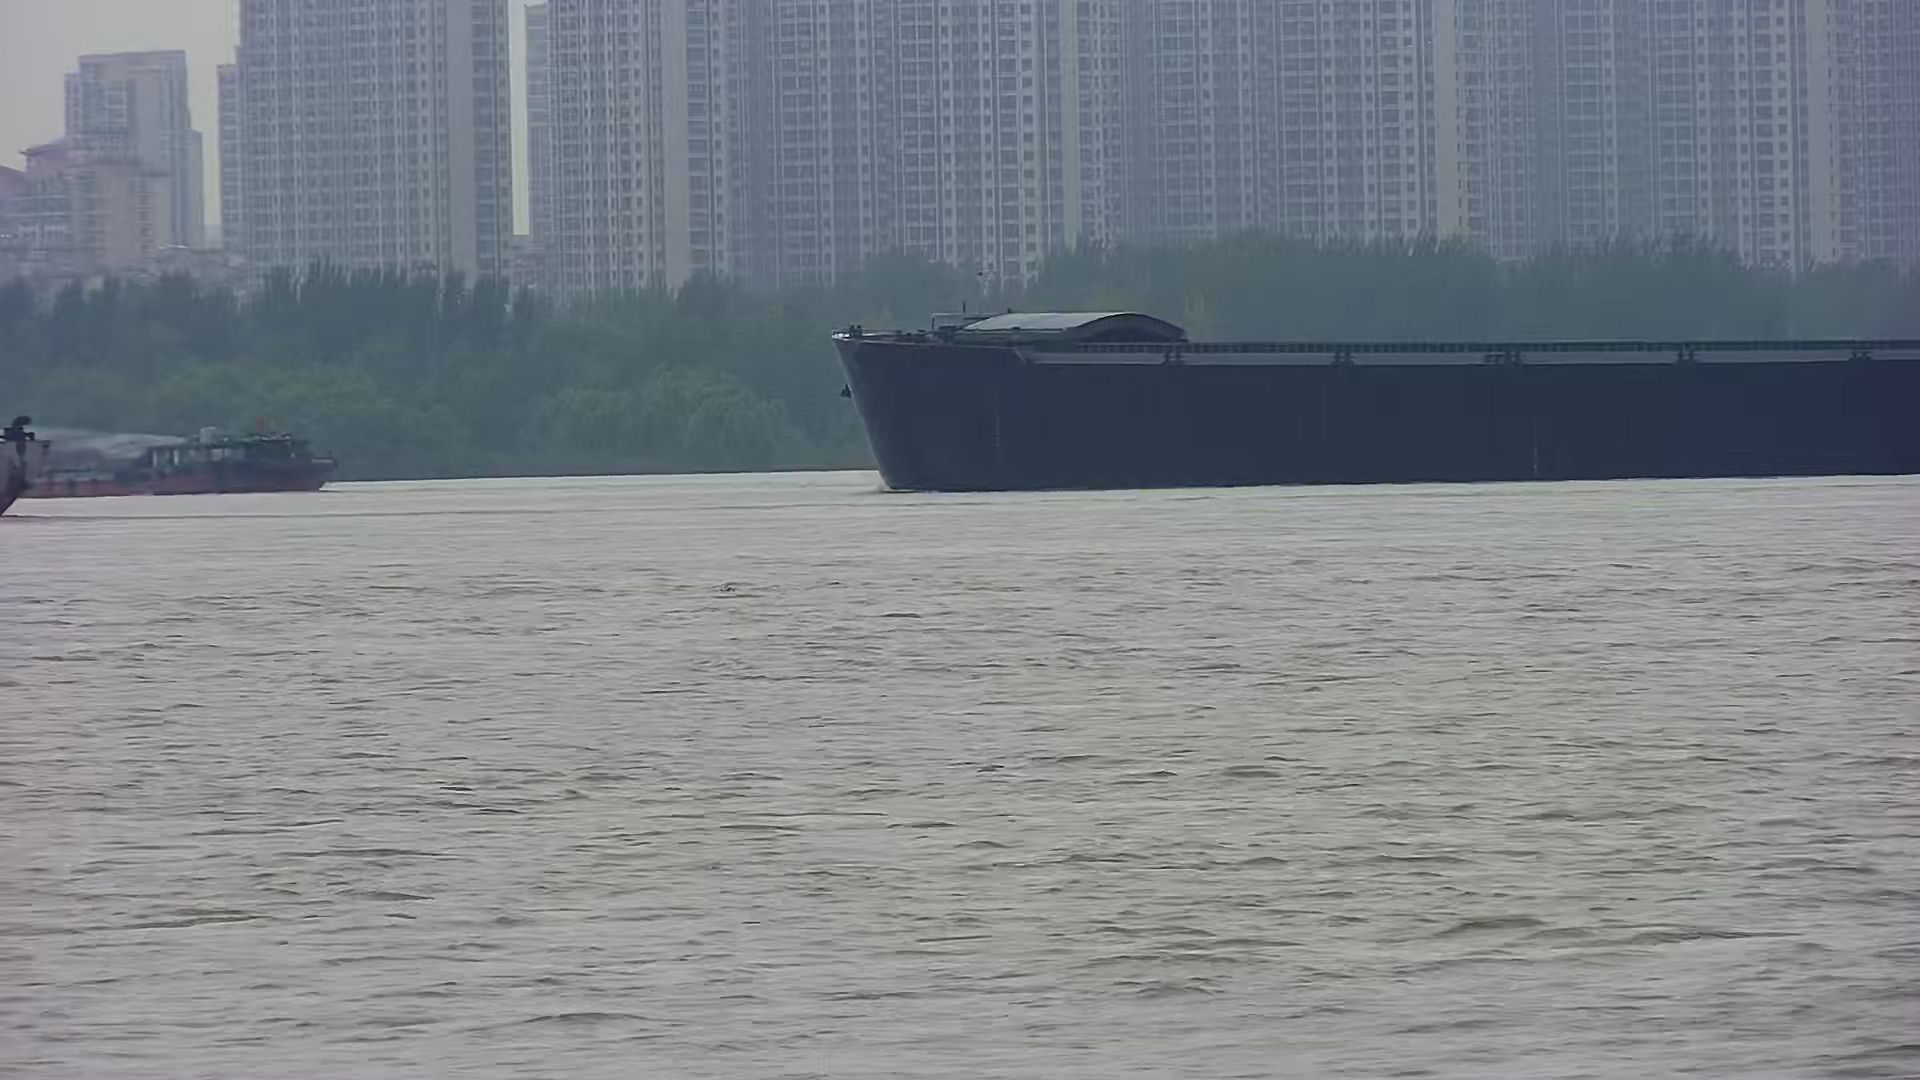ship: (836, 306, 1919, 495), (30, 427, 338, 497), (1, 411, 49, 524)
